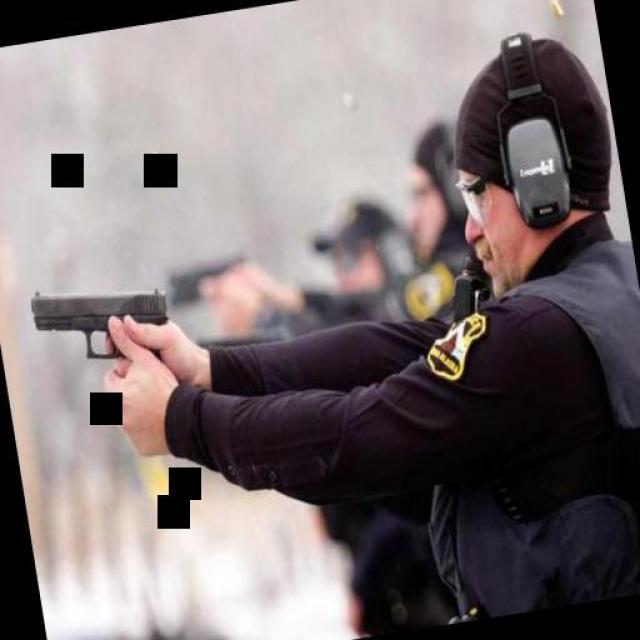gun: (20, 255, 189, 409)
